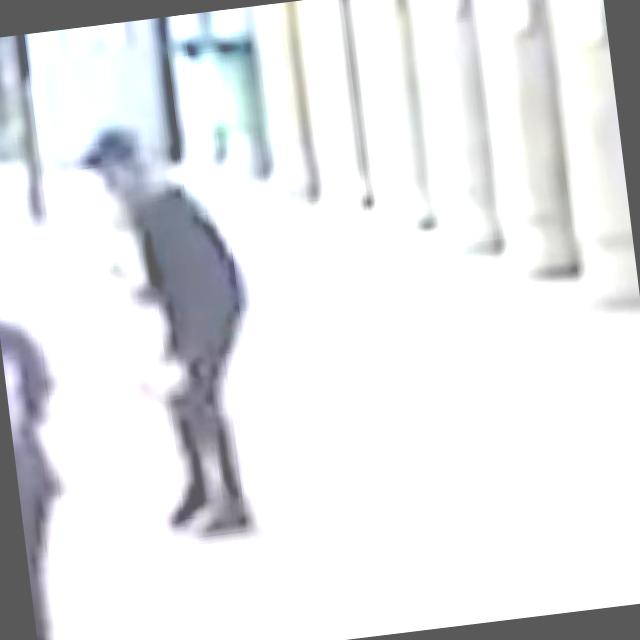Person: (69, 90, 283, 568)
